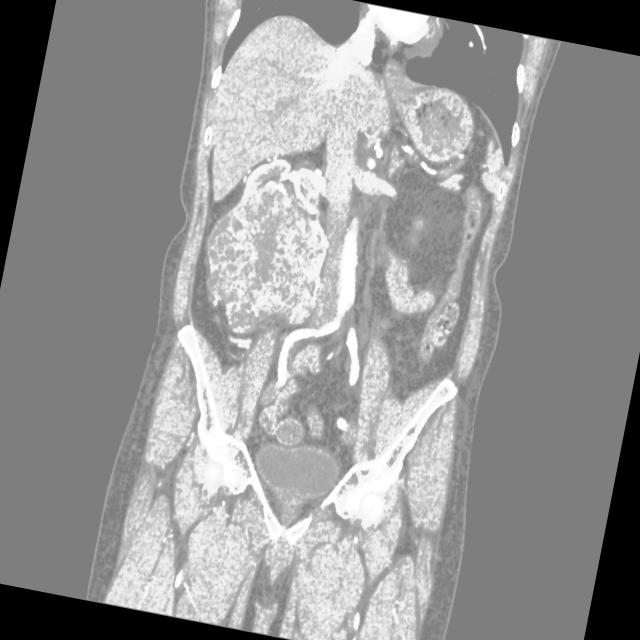TUMOR: (163, 89, 522, 374)
